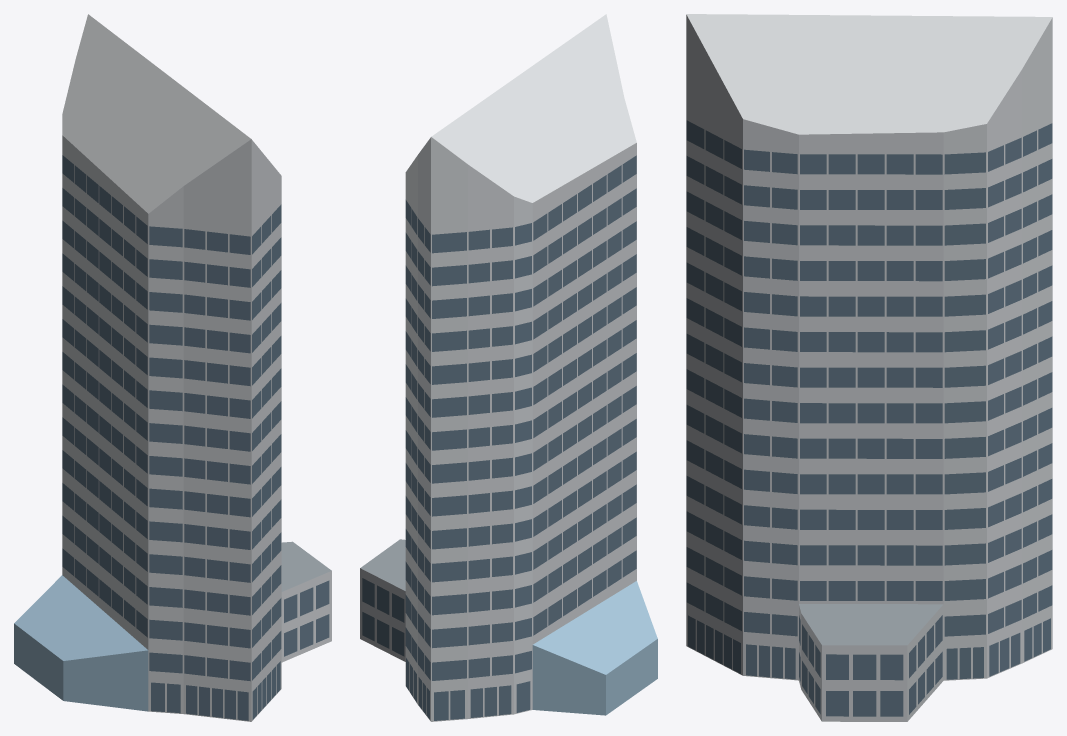
The model's file is cle-one-cleveland-center.glb.
3 renders of one model, left to right at view 1: azimuth 30°, elevation 25°; view 2: azimuth 150°, elevation 25°; view 3: azimuth 270°, elevation 25°, orthographic. The views are drawn at different scales.
Parts seen in each view (by area): view 1: One Cleveland Center; view 2: One Cleveland Center; view 3: One Cleveland Center.
Boxes of the visible parts, left/top/right/bottom form: One Cleveland Center: left=14, top=14, right=331, bottom=721; One Cleveland Center: left=360, top=14, right=657, bottom=721; One Cleveland Center: left=686, top=14, right=1052, bottom=721.
Bounding box in the file's own units: 65.56 × 139 × 72.9.
